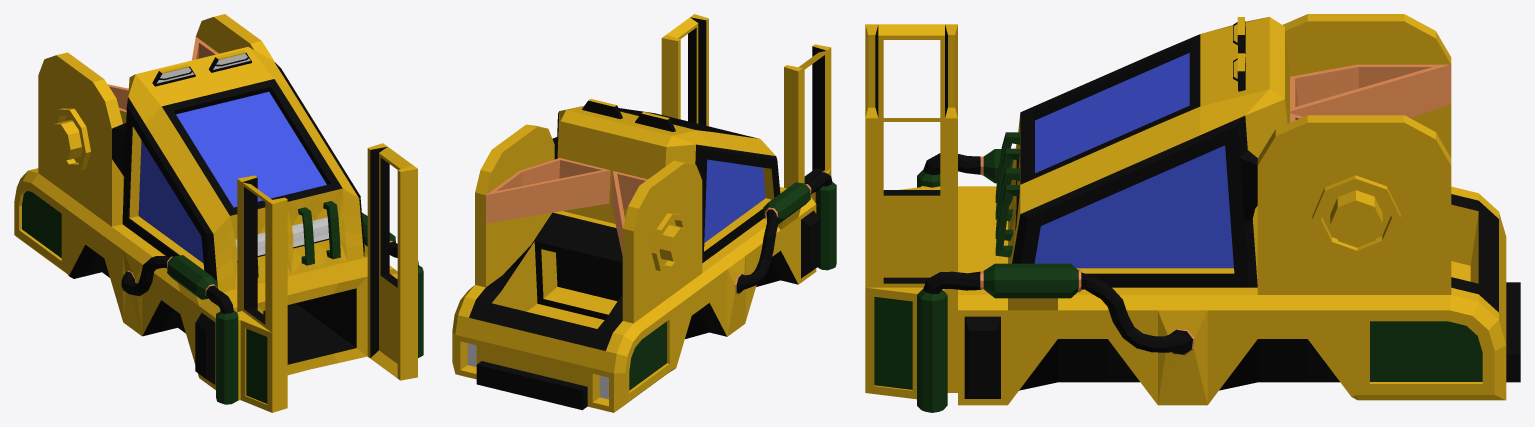
The model's file is Ammo Car v.1.3..fbx.
3 renders of one model, left to right at view 1: azimuth 30°, elevation 25°; view 2: azimuth 150°, elevation 25°; view 3: azimuth 270°, elevation 25°, orthographic. The views are drawn at different scales.
Parts seen in each view (by area): view 1: AMMO CAR; view 2: AMMO CAR; view 3: AMMO CAR.
Boxes of the visible parts, bbox=[...] form: AMMO CAR: bbox=[14, 14, 423, 412]; AMMO CAR: bbox=[452, 14, 836, 412]; AMMO CAR: bbox=[865, 14, 1520, 412].
Size of the model in its own units: 689 by 696 by 1354.
